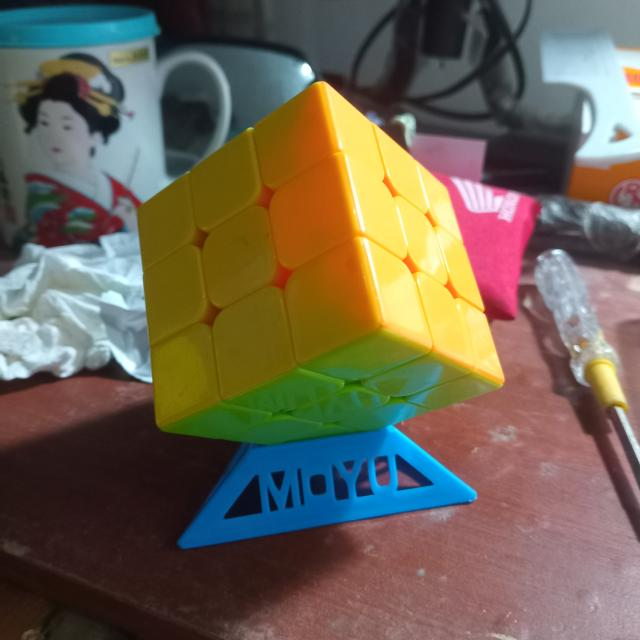down: (137, 82, 380, 428)
front: (160, 329, 503, 445)
left: (322, 81, 505, 383)
rubik: (135, 75, 510, 447)
